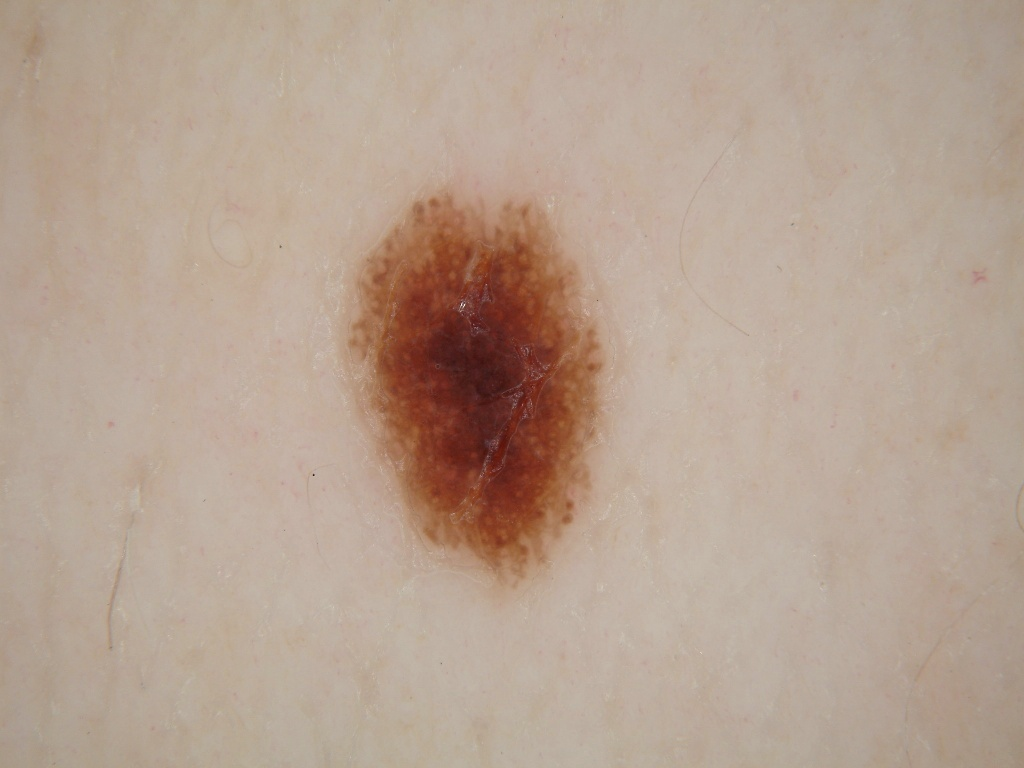Detected Lesion: (346, 184, 615, 602)
